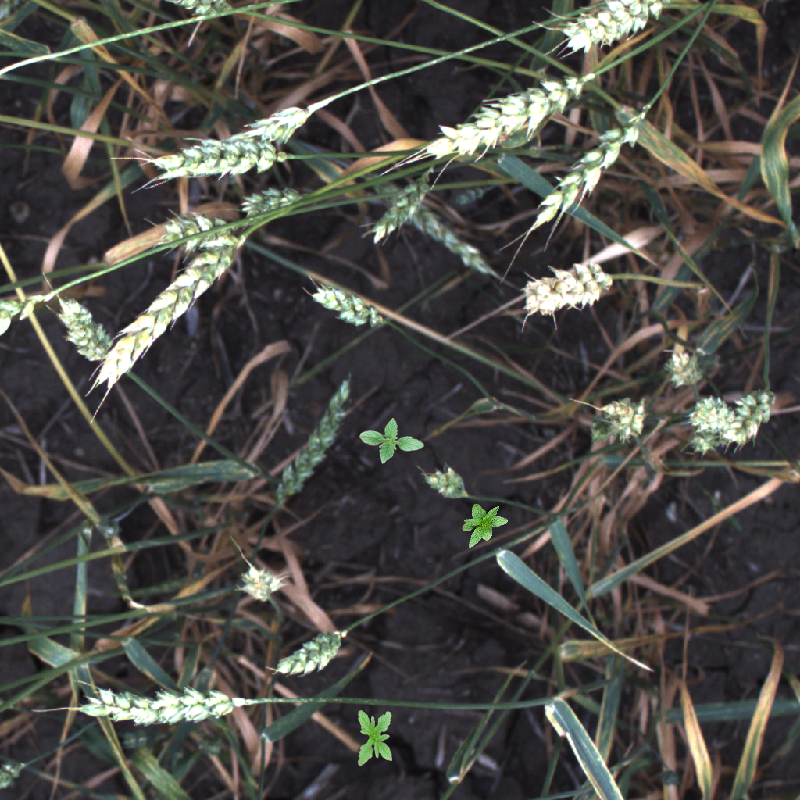spikelet: (80, 230, 245, 397), (528, 95, 660, 240), (420, 72, 586, 171), (269, 377, 352, 511), (384, 184, 494, 280), (133, 132, 291, 182), (67, 685, 232, 725), (304, 265, 398, 332), (358, 165, 435, 239), (214, 95, 314, 147), (563, 1, 660, 48), (526, 261, 606, 314), (268, 627, 342, 680), (54, 294, 114, 358), (594, 390, 652, 447), (722, 386, 771, 448), (414, 464, 471, 509), (150, 214, 228, 244), (235, 187, 308, 219), (237, 565, 282, 602), (689, 396, 732, 432), (666, 351, 703, 386), (685, 429, 722, 456)
weed: (451, 493, 512, 551), (359, 418, 424, 464), (358, 710, 392, 766)
